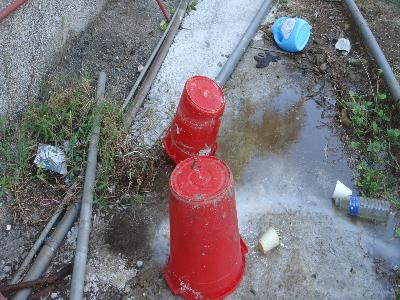bottle: (332, 194, 392, 228), (266, 17, 310, 54), (257, 225, 280, 256), (329, 178, 354, 203)
bucket: (160, 158, 252, 300), (159, 75, 226, 168)
